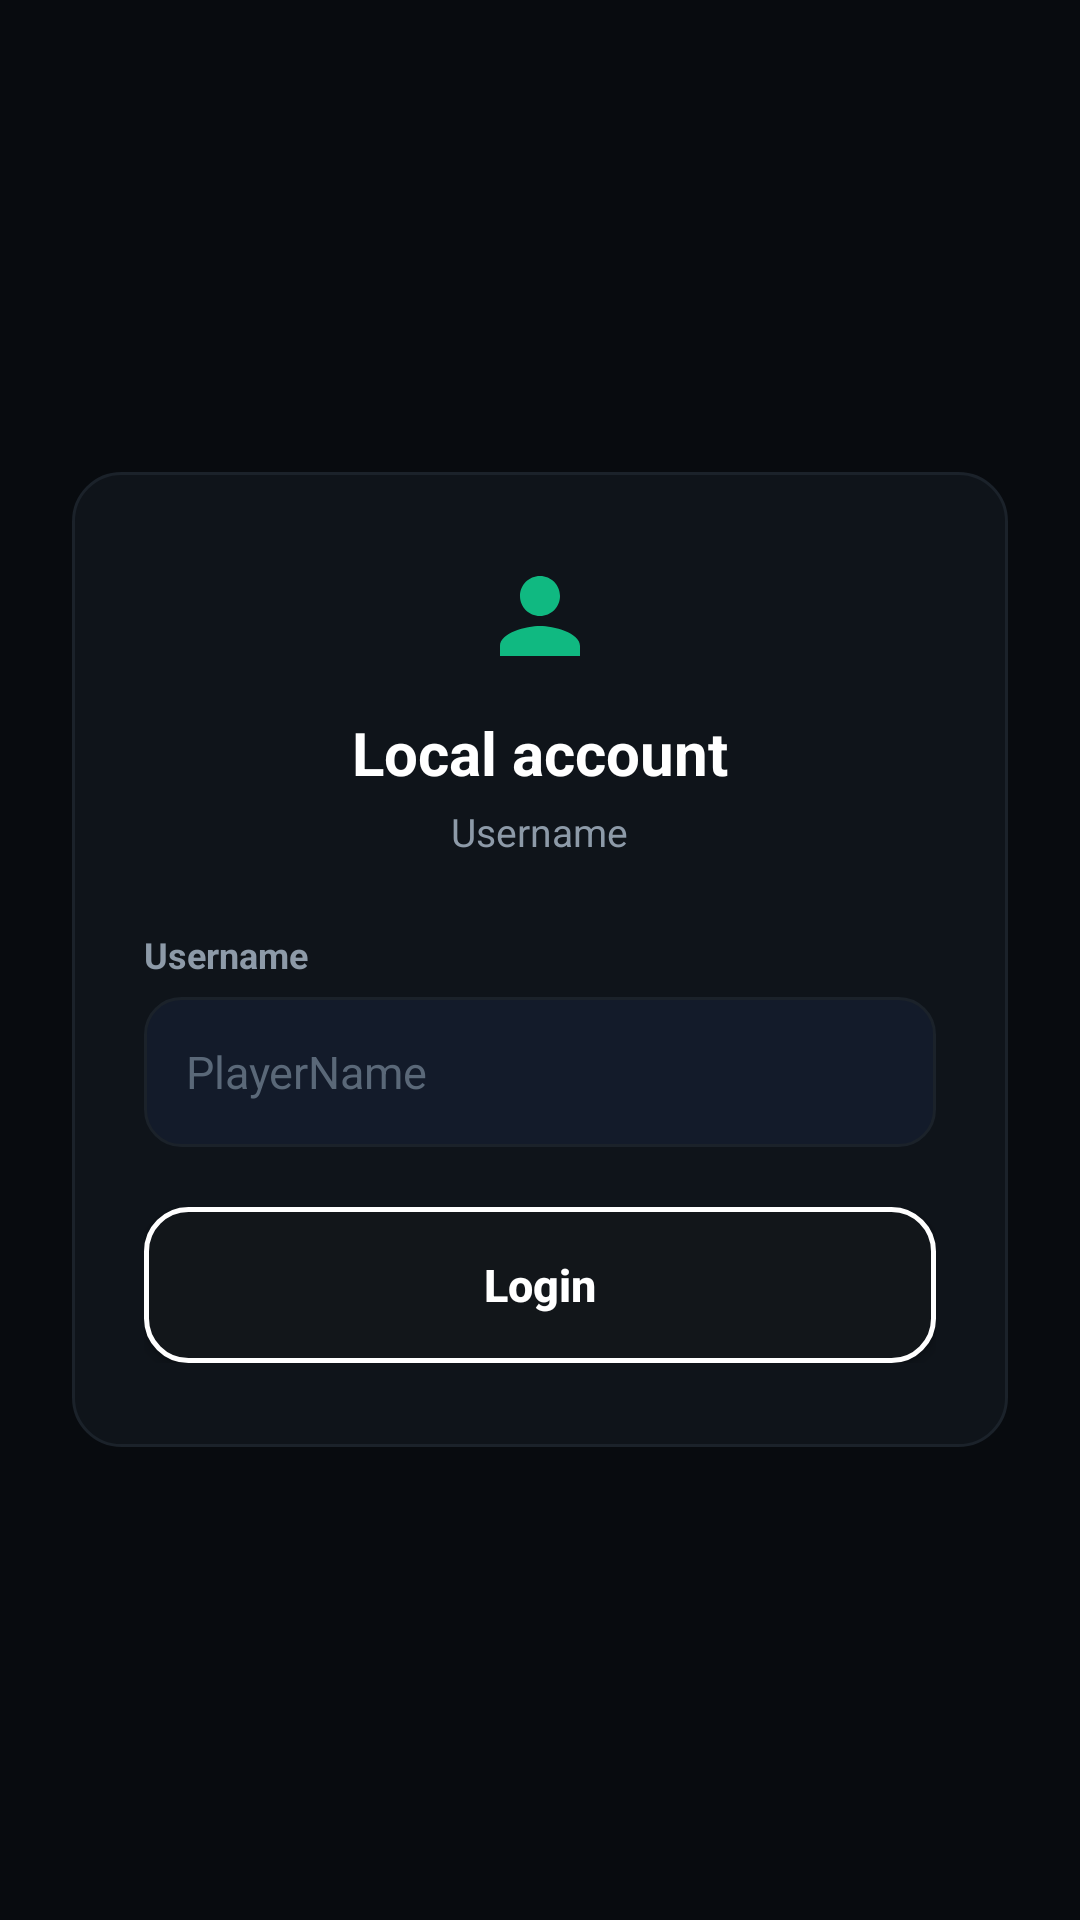

Icon bounding boxes for this 1080*1920 phone screenshot, format (x1,y1,x2,y2):
auth local: (500,576,580,656)
